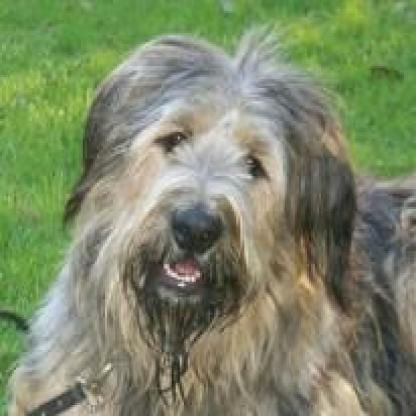briard: (0, 20, 412, 412)
